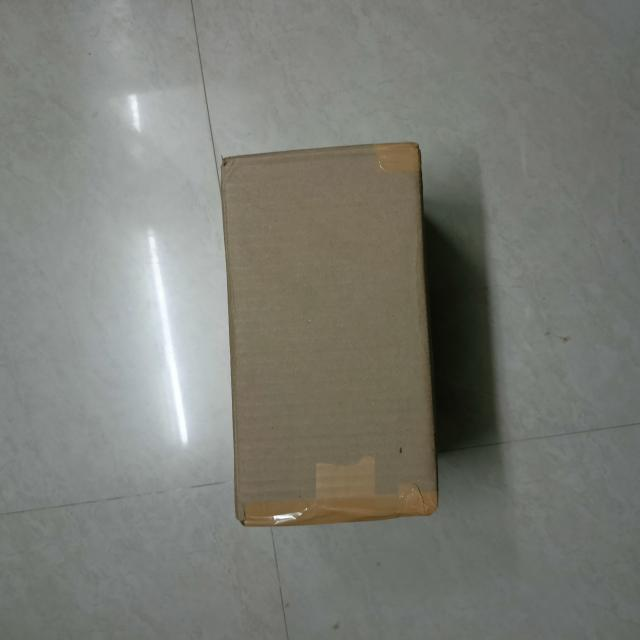box: (233, 150, 437, 522)
